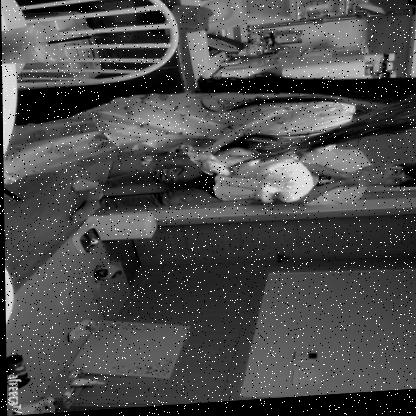streamer: (1, 68, 416, 186), (67, 148, 416, 225)
